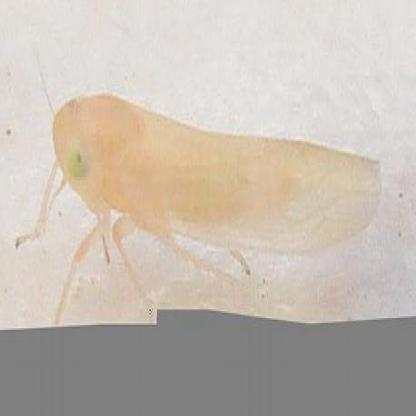green-leafhopper: (46, 90, 385, 276)
